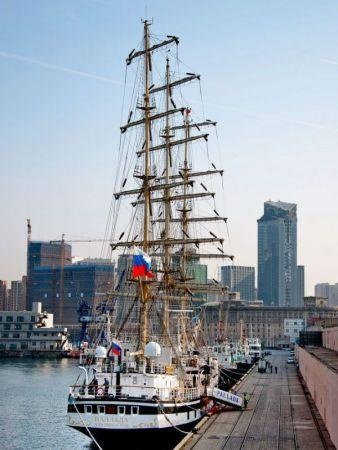fanchuan: (57, 22, 250, 431)
